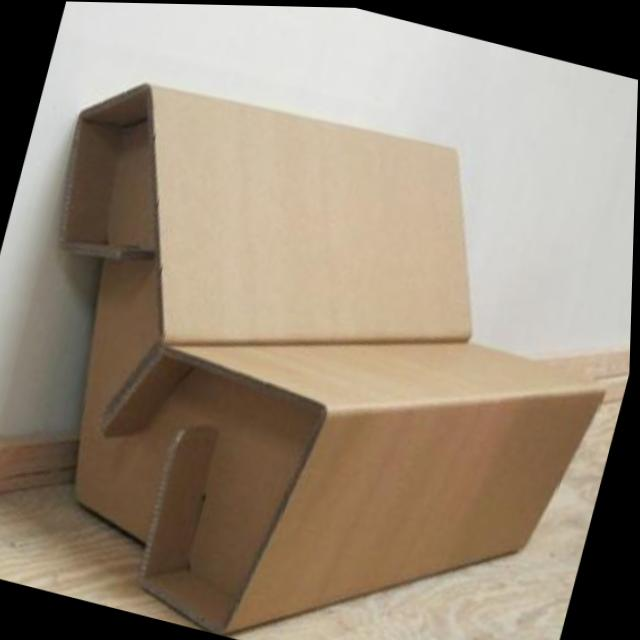box: (0, 41, 639, 640)
